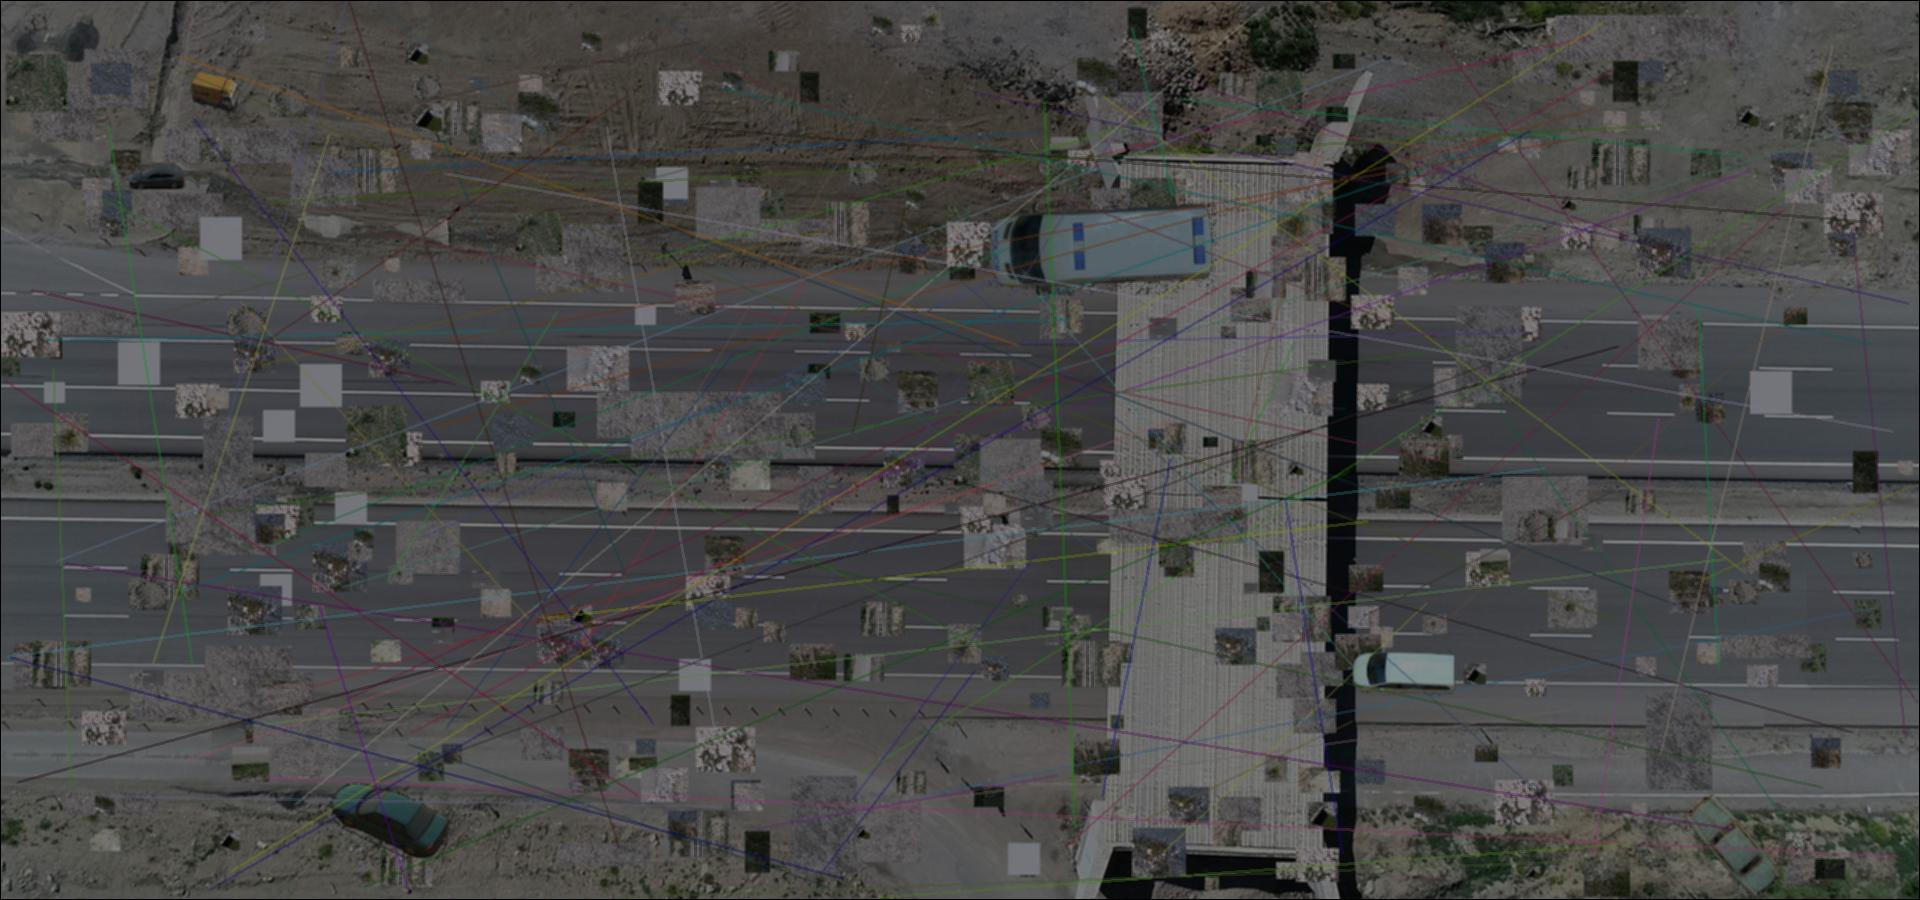arac: (983, 196, 1217, 295), (1682, 790, 1784, 898), (327, 781, 451, 860), (1349, 649, 1460, 696), (190, 71, 240, 113), (129, 165, 186, 189)
